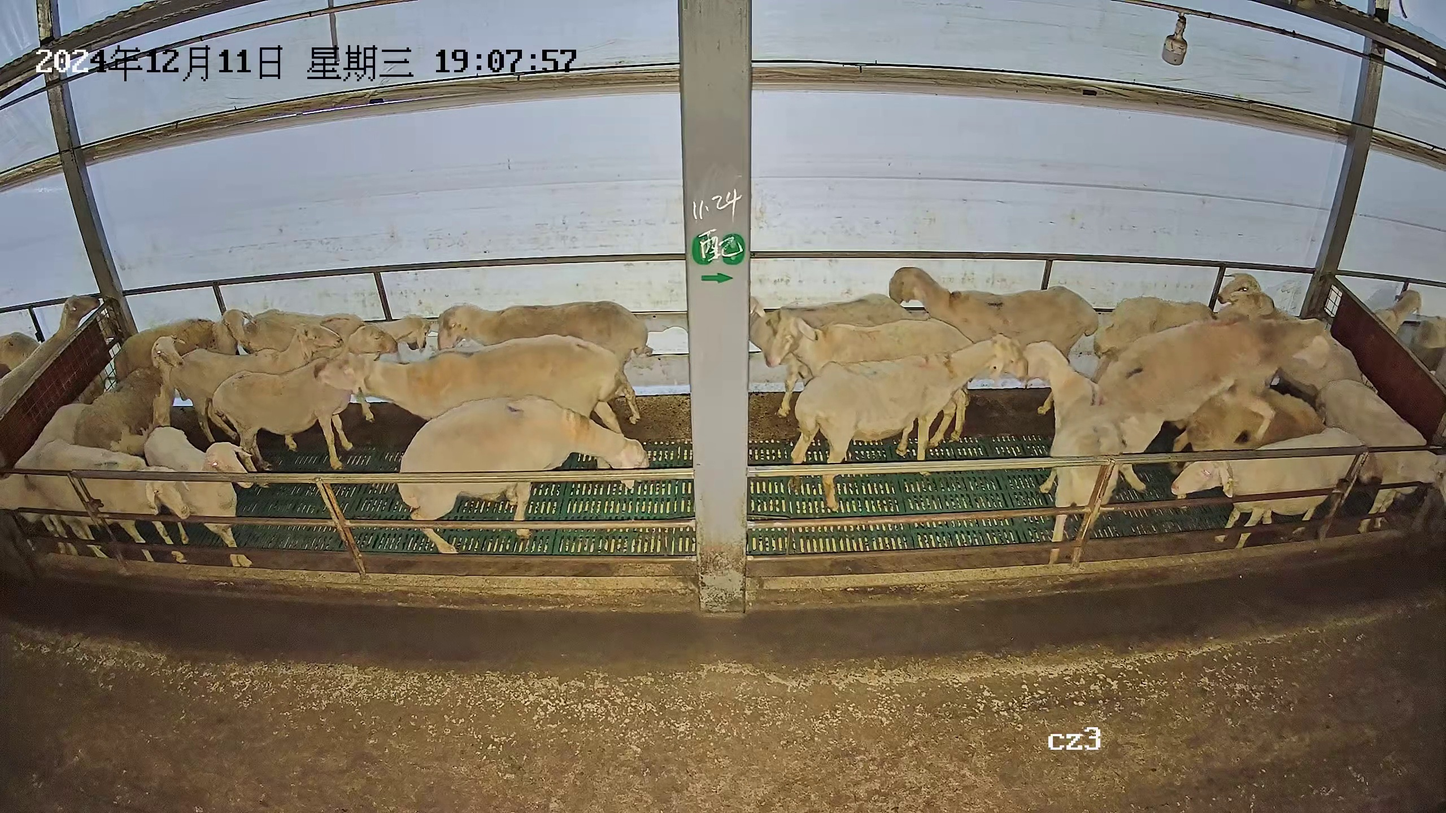Smounting: (1096, 314, 1337, 510)
mounted: (1170, 384, 1328, 508)
